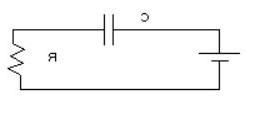Capacitor: (92, 7, 126, 49)
